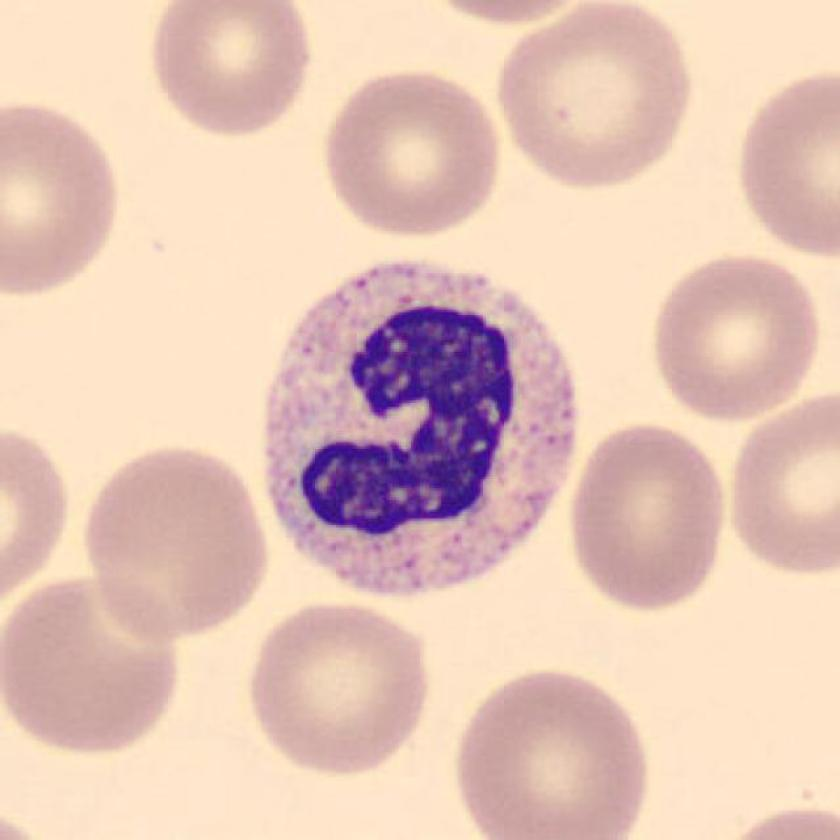neutrophil: (265, 261, 573, 595)
